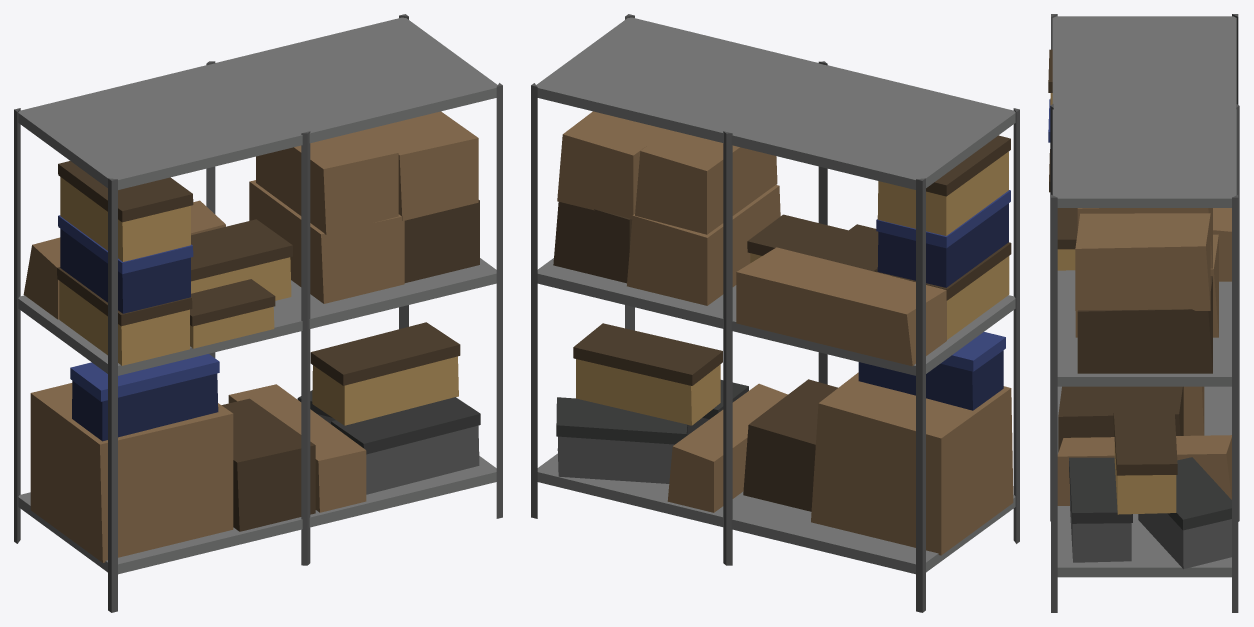
File: BoxShelves.glb
The picture shows the model from 3 angles, left to right: view 1: azimuth 30°, elevation 25°; view 2: azimuth 150°, elevation 25°; view 3: azimuth 270°, elevation 25°; orthographic projection. The views are drawn at different scales.
Parts seen in each view (by area): view 1: BoxShelves; view 2: BoxShelves; view 3: BoxShelves.
Boxes of the visible parts, left/top/right/bottom form: BoxShelves: left=14, top=14, right=502, bottom=612; BoxShelves: left=531, top=14, right=1019, bottom=612; BoxShelves: left=1048, top=14, right=1239, bottom=612.
Bounding box in the file's own units: 2.16 × 2.25 × 0.9401.
Materials: 1 (1 with a texture image).
